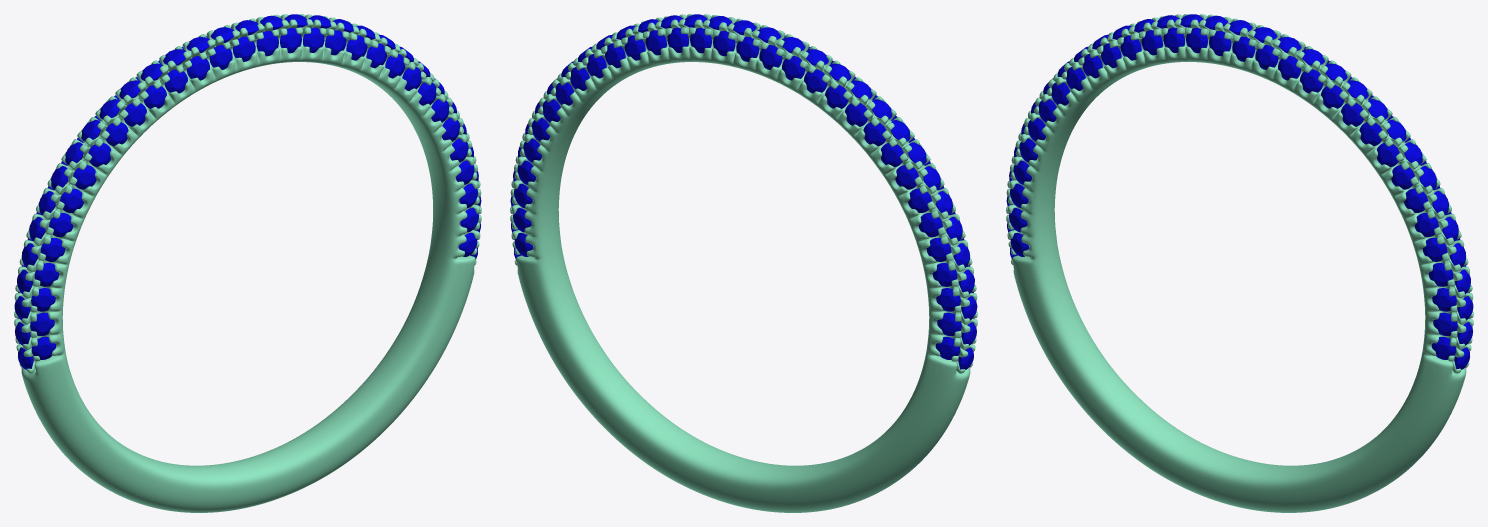
The picture shows the model from 3 angles, left to right: view 1: azimuth 30°, elevation 25°; view 2: azimuth 150°, elevation 25°; view 3: azimuth 330°, elevation 25°; orthographic projection.
Visible parts, largest first — view 1: Metal03; view 2: Metal03; view 3: Metal03.
Boxes of the visible parts, box(x1,y1,x2,y2) form: Metal03: box(14, 14, 481, 512); Metal03: box(510, 14, 977, 512); Metal03: box(1006, 14, 1473, 512).
Bounding box in the file's own units: 20.87 × 20.89 × 1.81.
